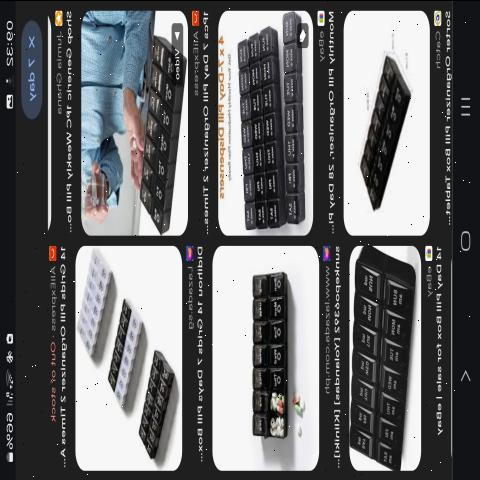PillBox: (351, 253, 415, 471), (228, 16, 288, 236), (121, 29, 182, 237), (354, 37, 421, 223), (242, 255, 296, 452), (134, 336, 176, 458)
